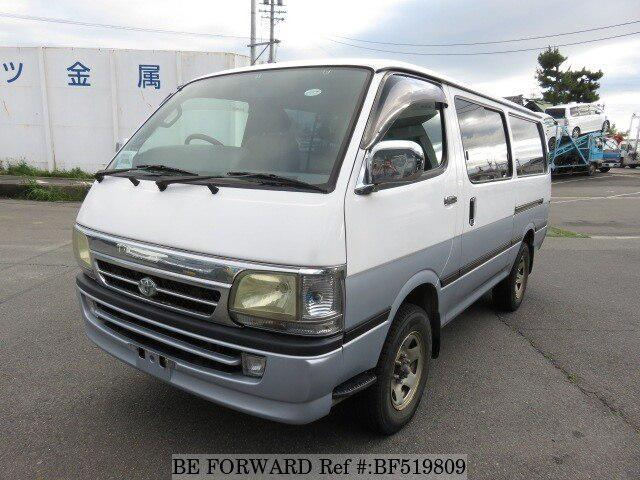van: (75, 55, 555, 416)
